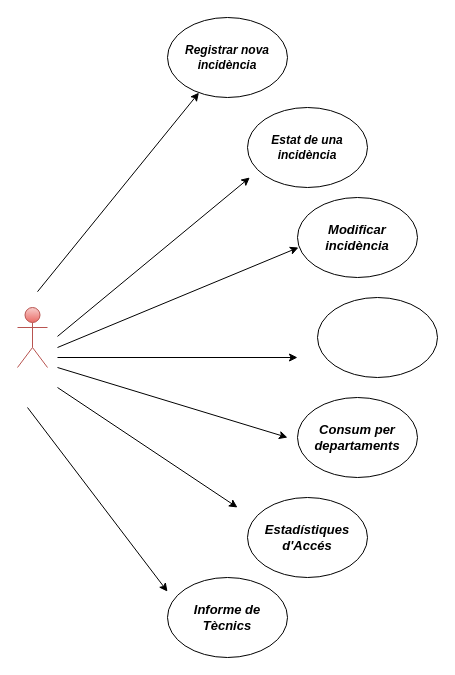
Image size: 455x675. Some labels were removed from this diagram. The box of each missing label's shape, as (x1, y1, x2, y2) in pixels:
Client: (16, 306, 48, 368)
Registrar actuació: (316, 296, 438, 378)
